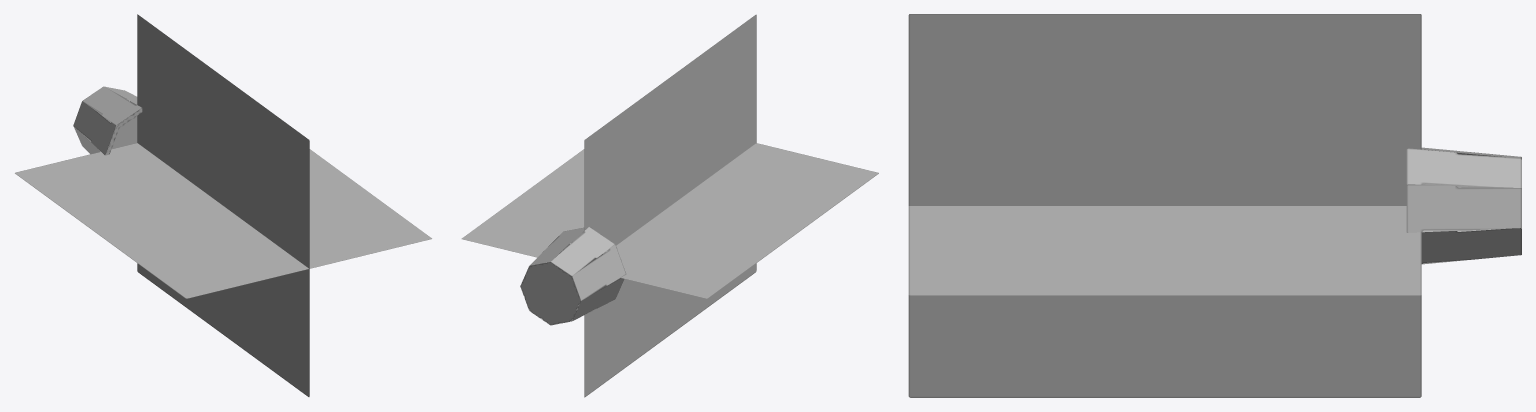
File: pz_plant_native_19.obj
The picture shows the model from 3 angles, left to right: view 1: azimuth 30°, elevation 25°; view 2: azimuth 150°, elevation 25°; view 3: azimuth 270°, elevation 25°; orthographic projection. The views are drawn at different scales.
Visible parts, largest first — view 1: foliage_PNG_crossed_cards, pot_soil_and_rim; view 2: foliage_PNG_crossed_cards, pot_soil_and_rim; view 3: foliage_PNG_crossed_cards, pot_soil_and_rim.
Part boxes in pixels (x1,y1,x2,y2): foliage_PNG_crossed_cards: [15, 14, 431, 396]; pot_soil_and_rim: [73, 86, 142, 155]; foliage_PNG_crossed_cards: [461, 14, 878, 397]; pot_soil_and_rim: [520, 226, 625, 325]; foliage_PNG_crossed_cards: [908, 14, 1421, 397]; pot_soil_and_rim: [1406, 147, 1521, 264].
Size of the model in its own units: 0.6979 by 0.6979 by 1.01.
Materials: 1 (1 with a texture image).
